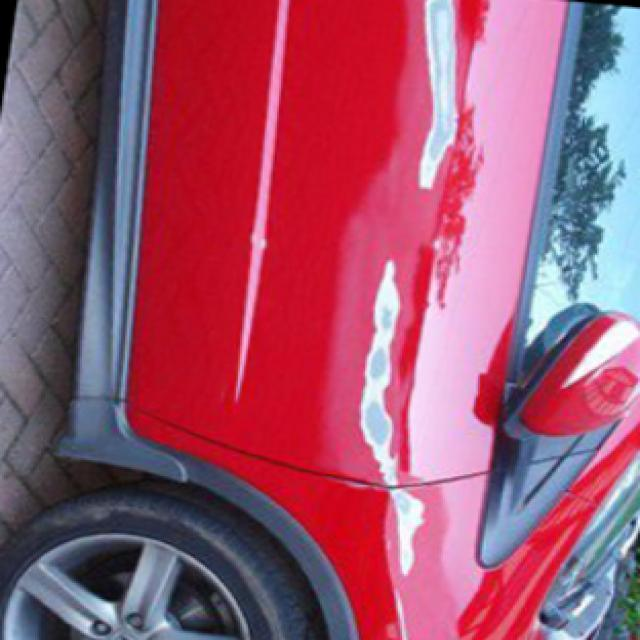scratch: (357, 242, 435, 590), (407, 0, 477, 189)
